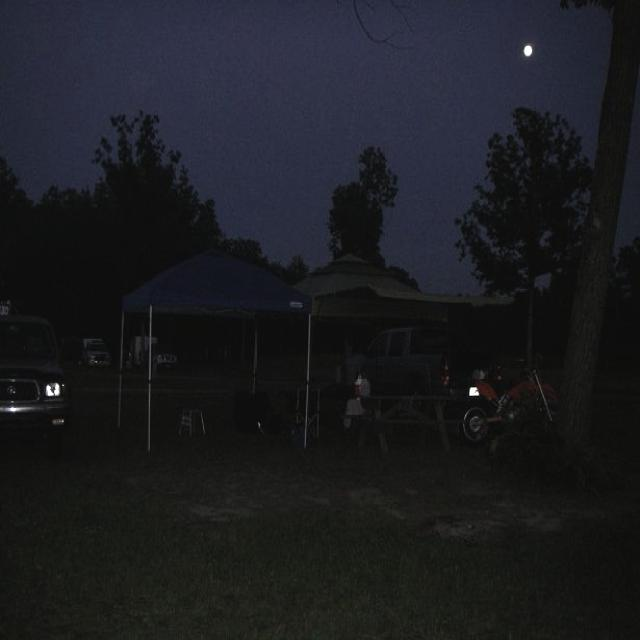Motorbike: (458, 357, 560, 453)
